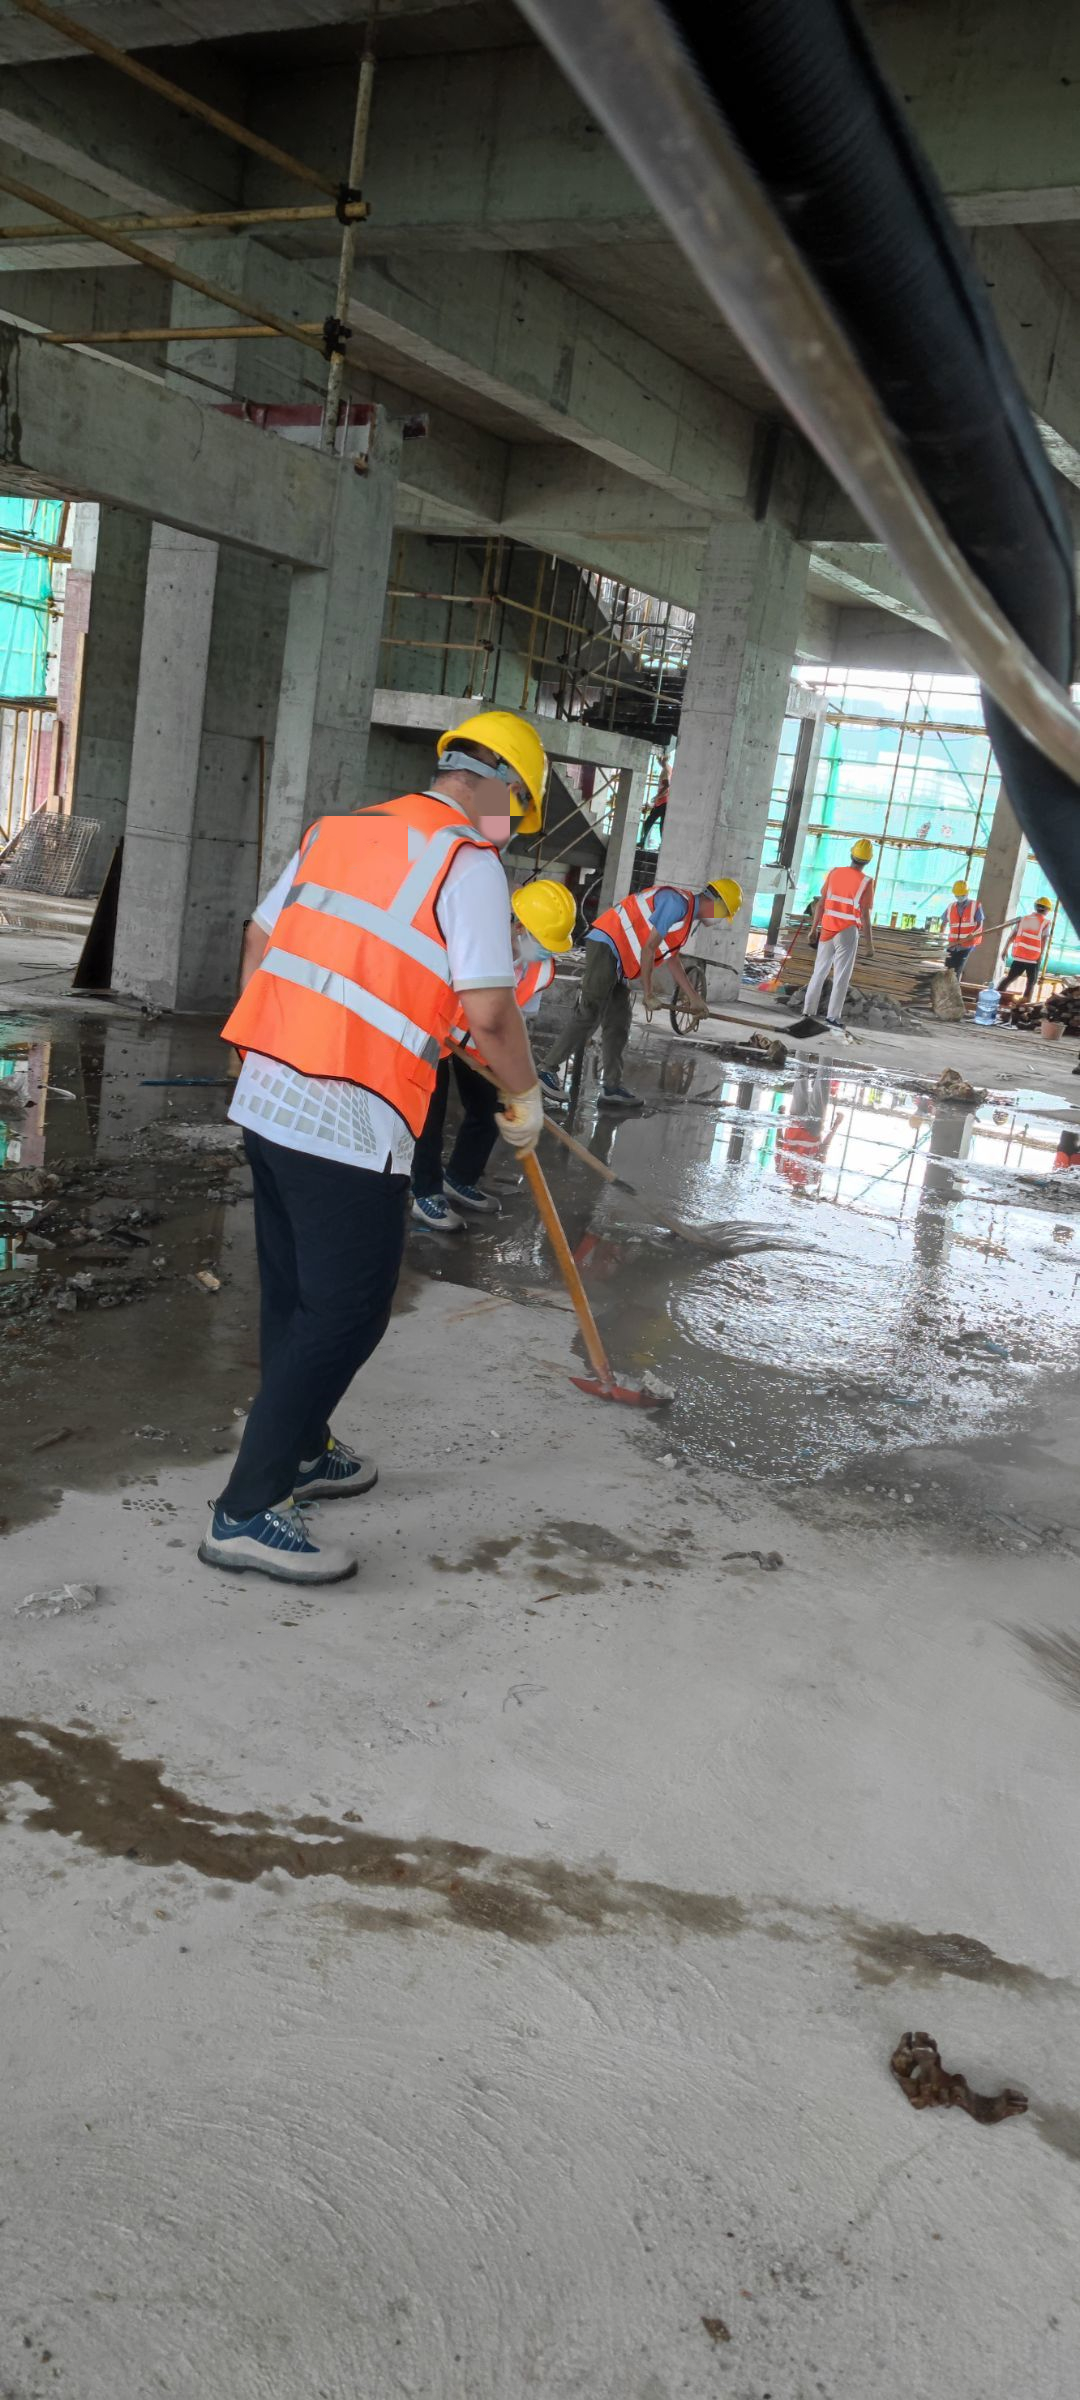helmet: (436, 698, 550, 832), (509, 876, 579, 954), (706, 877, 745, 918), (848, 840, 876, 861), (952, 880, 969, 895), (1035, 896, 1052, 910)
person: (190, 703, 545, 1590), (416, 864, 555, 1234), (576, 850, 754, 1100), (799, 828, 878, 1041), (923, 867, 985, 988), (1002, 886, 1052, 1005)
vest: (230, 793, 470, 1123), (601, 883, 701, 969), (817, 866, 864, 937), (1011, 909, 1043, 962), (949, 901, 986, 945)
